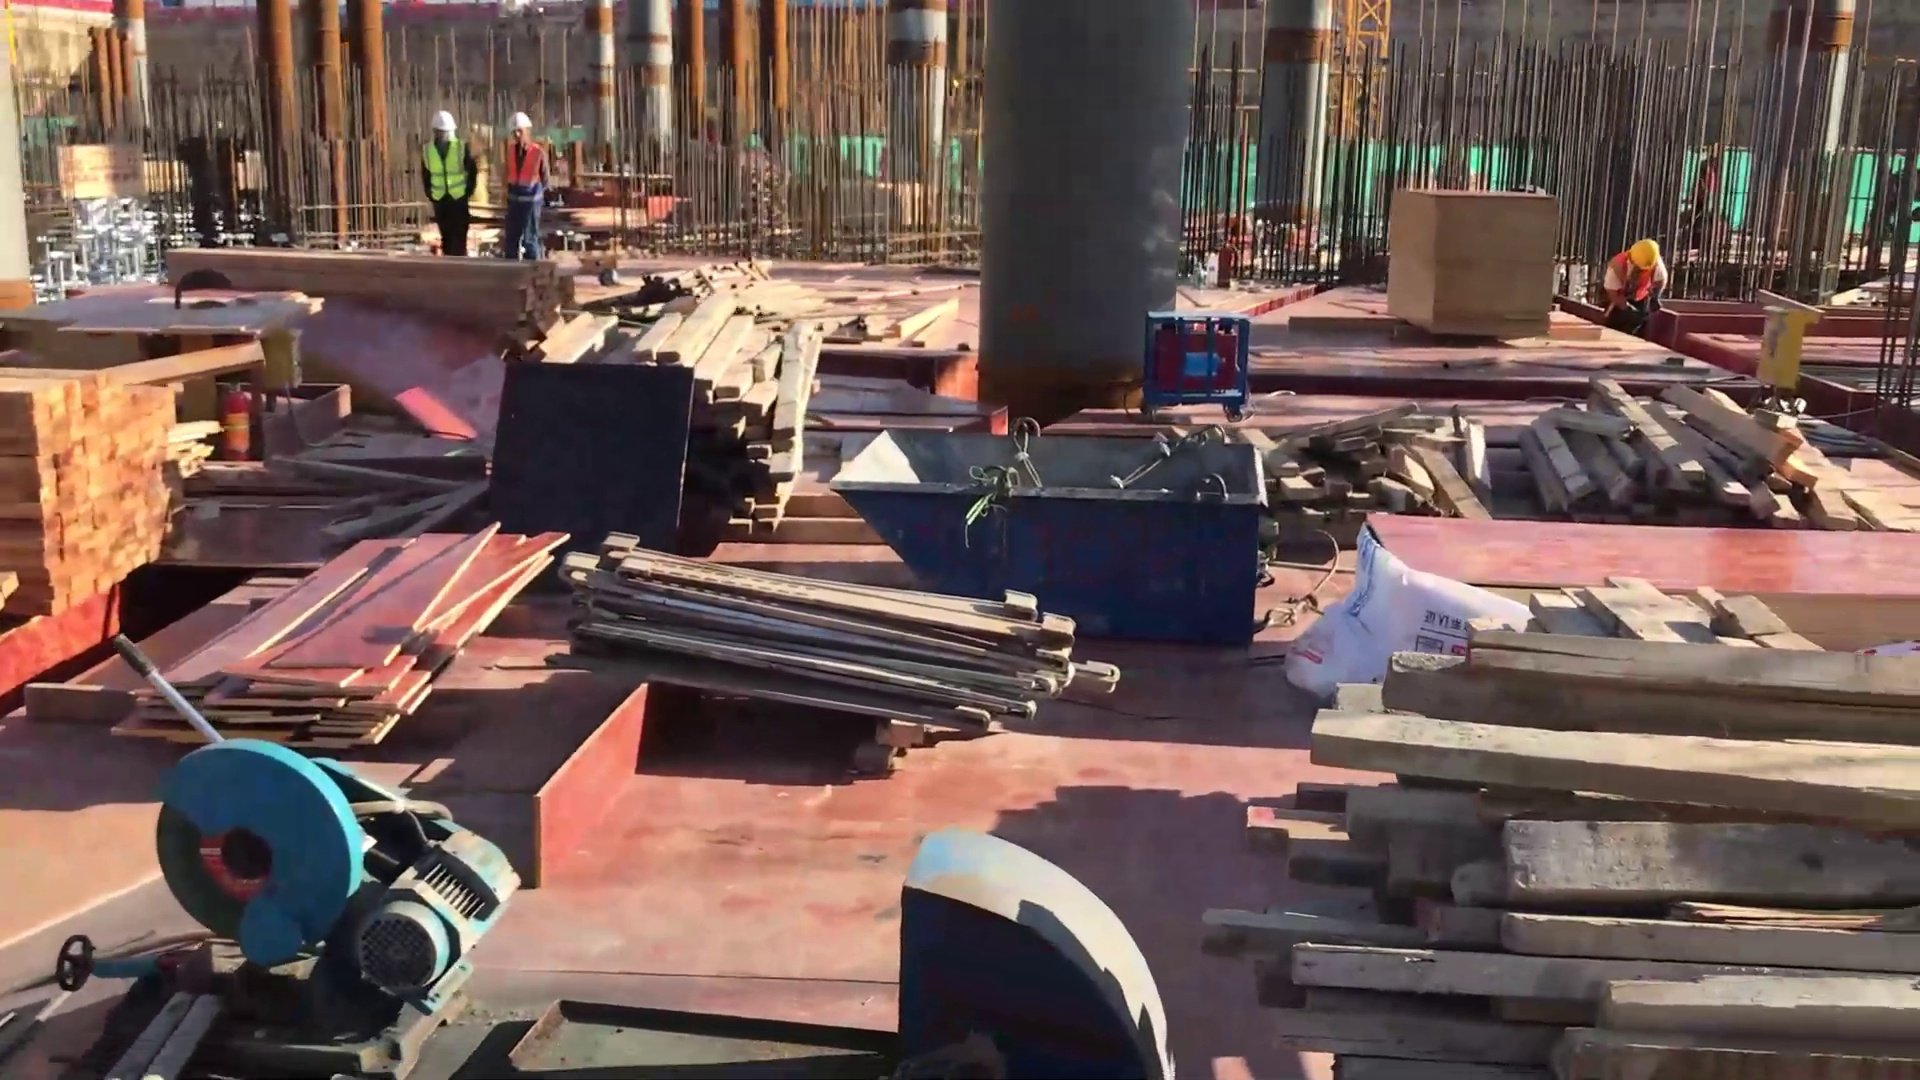board: (100, 514, 584, 752), (1353, 490, 1920, 656), (1379, 162, 1572, 357)
cutter: (81, 645, 536, 1021)
ebox: (1750, 297, 1812, 414)
helmet: (1625, 235, 1661, 274), (427, 109, 461, 134), (505, 110, 535, 134)
hopper: (829, 414, 1274, 655)
person: (417, 106, 484, 265), (493, 107, 558, 266), (1599, 232, 1674, 337)
vest: (1606, 250, 1661, 317), (421, 138, 470, 201), (506, 140, 546, 205)
wood: (553, 278, 834, 533), (1, 359, 196, 639), (162, 233, 579, 345)
